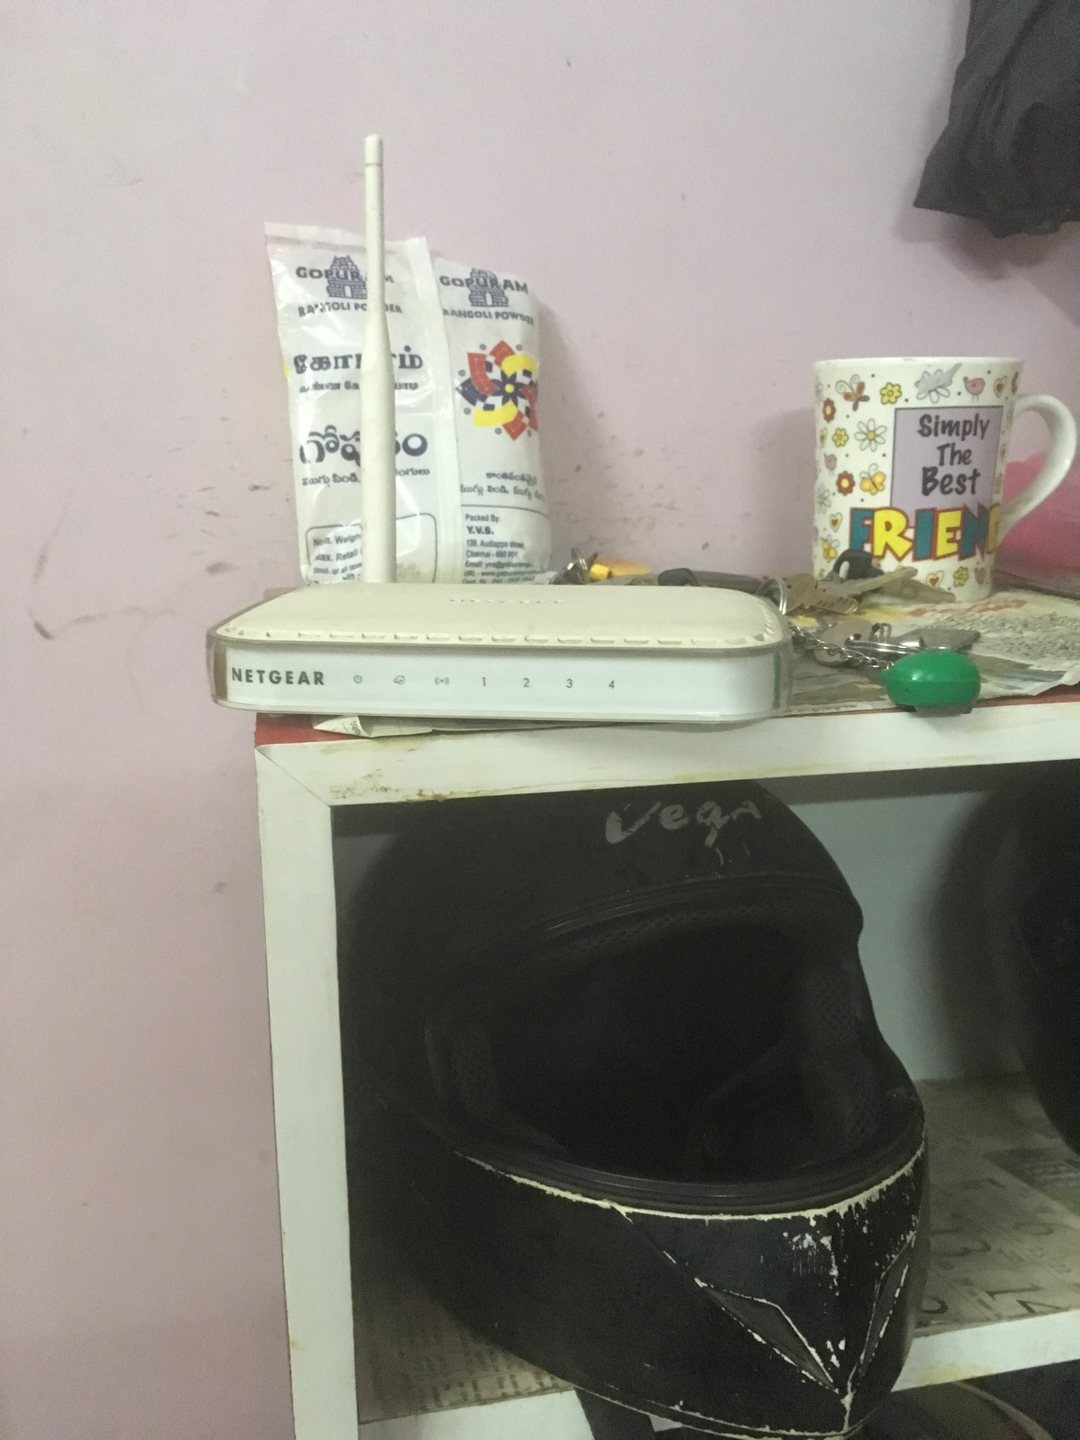NETGEAR: (225, 659, 334, 694)
modem: (197, 626, 800, 728)
